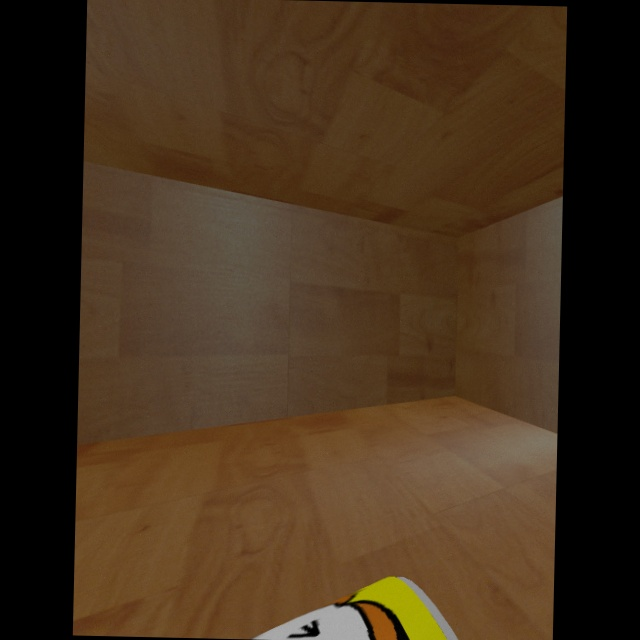chipsdose_gelb: (244, 576, 459, 640)
